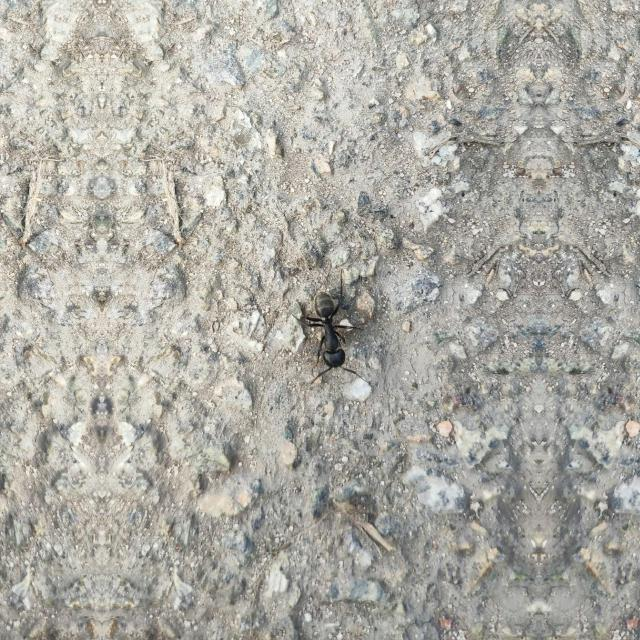Camponotus: (286, 268, 374, 387)
